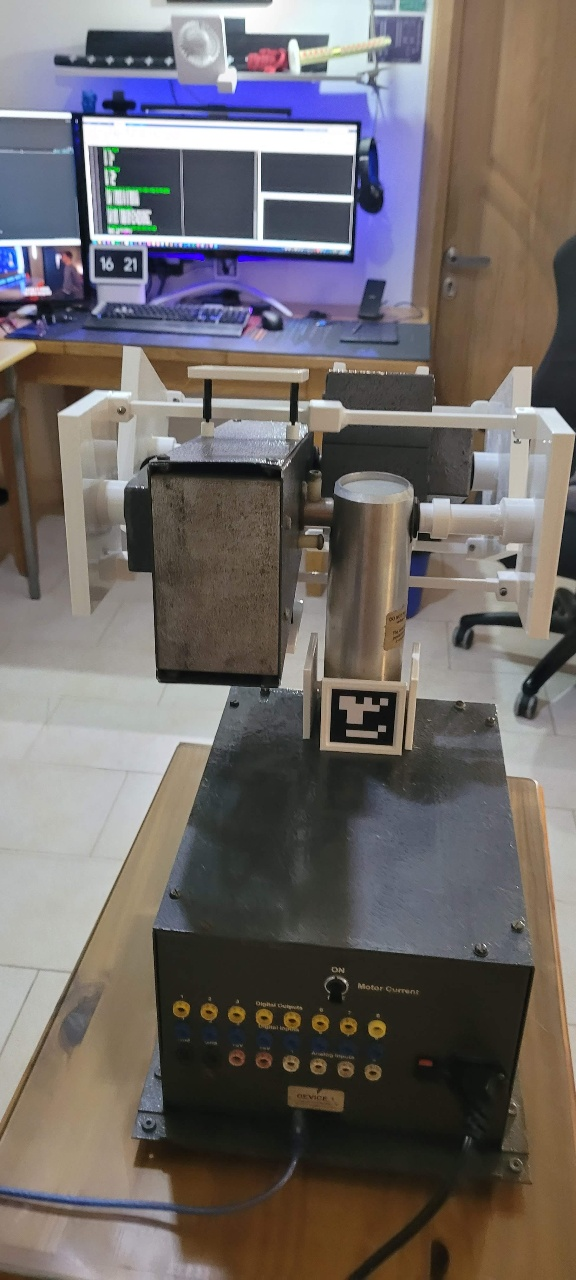Robot: (56, 343, 576, 758)
